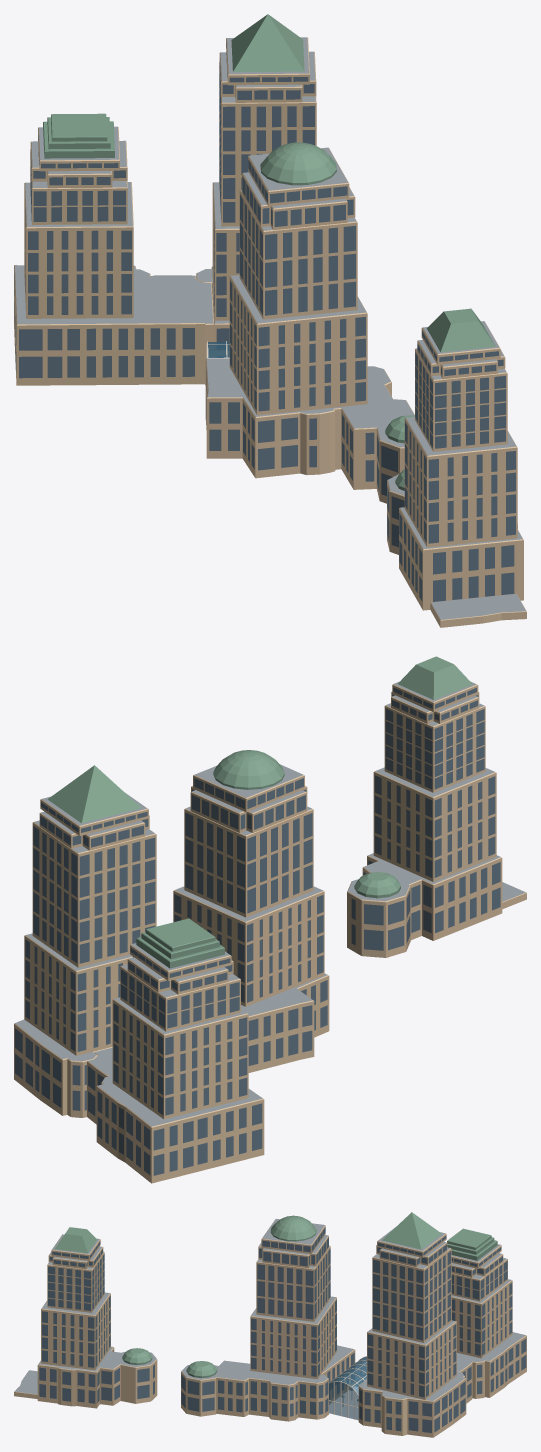
Rendered from nyc-brookfield-place.glb.
The picture shows the model from 3 angles, top to bottom: view 1: azimuth 30°, elevation 25°; view 2: azimuth 150°, elevation 25°; view 3: azimuth 270°, elevation 25°; orthographic projection. The views are drawn at different scales.
Visible parts, largest first — view 1: Brookfield Place; view 2: Brookfield Place; view 3: Brookfield Place.
Boxes of the visible parts, box(x1,y1,x2,y2) form: Brookfield Place: box(14, 14, 526, 627); Brookfield Place: box(14, 656, 526, 1183); Brookfield Place: box(14, 1212, 526, 1437).
Bounding box in the file's own units: 197 × 225 × 510.
